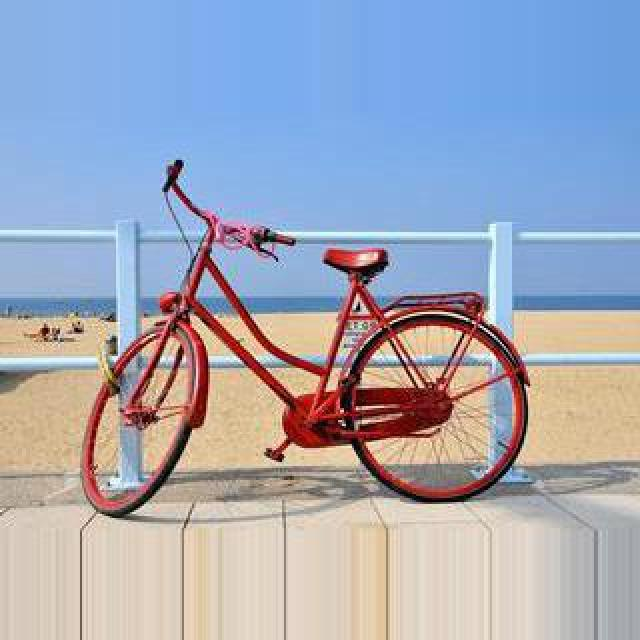MC-Bike: (38, 322, 52, 340)
Person: (78, 181, 554, 513)
